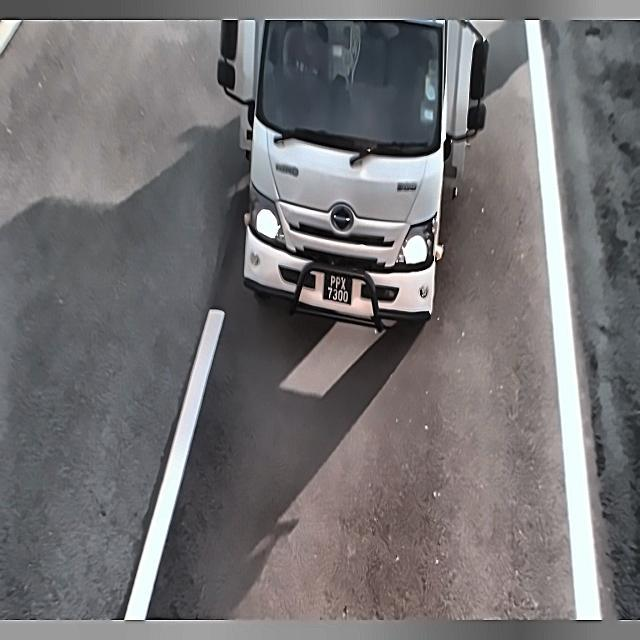car: (317, 258, 359, 319)
